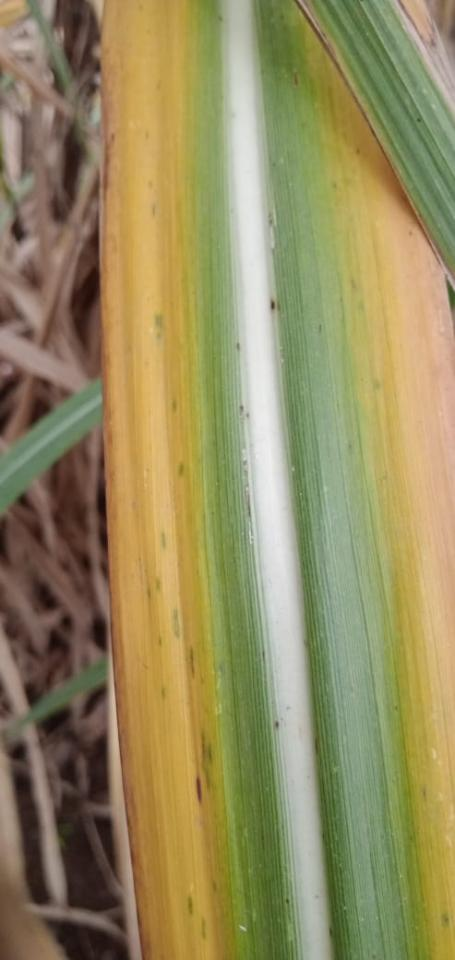Rust: (173, 608, 181, 640), (195, 774, 202, 806), (189, 645, 195, 680), (200, 915, 207, 940), (441, 910, 451, 927), (153, 313, 164, 328), (177, 458, 185, 478), (204, 770, 211, 792), (207, 743, 213, 765), (188, 895, 194, 916), (201, 731, 206, 754), (161, 530, 167, 548), (155, 575, 161, 592), (234, 341, 243, 352), (171, 397, 177, 413), (270, 296, 276, 311), (212, 879, 218, 894), (151, 199, 156, 217), (294, 75, 300, 88), (328, 924, 333, 939), (147, 178, 153, 190), (237, 404, 245, 412), (161, 685, 165, 701), (156, 331, 163, 340), (147, 585, 151, 599), (274, 721, 280, 730), (315, 737, 318, 754), (284, 899, 291, 906), (245, 413, 251, 419), (159, 635, 162, 646)
Yellow: (298, 6, 454, 959), (100, 0, 238, 959)
